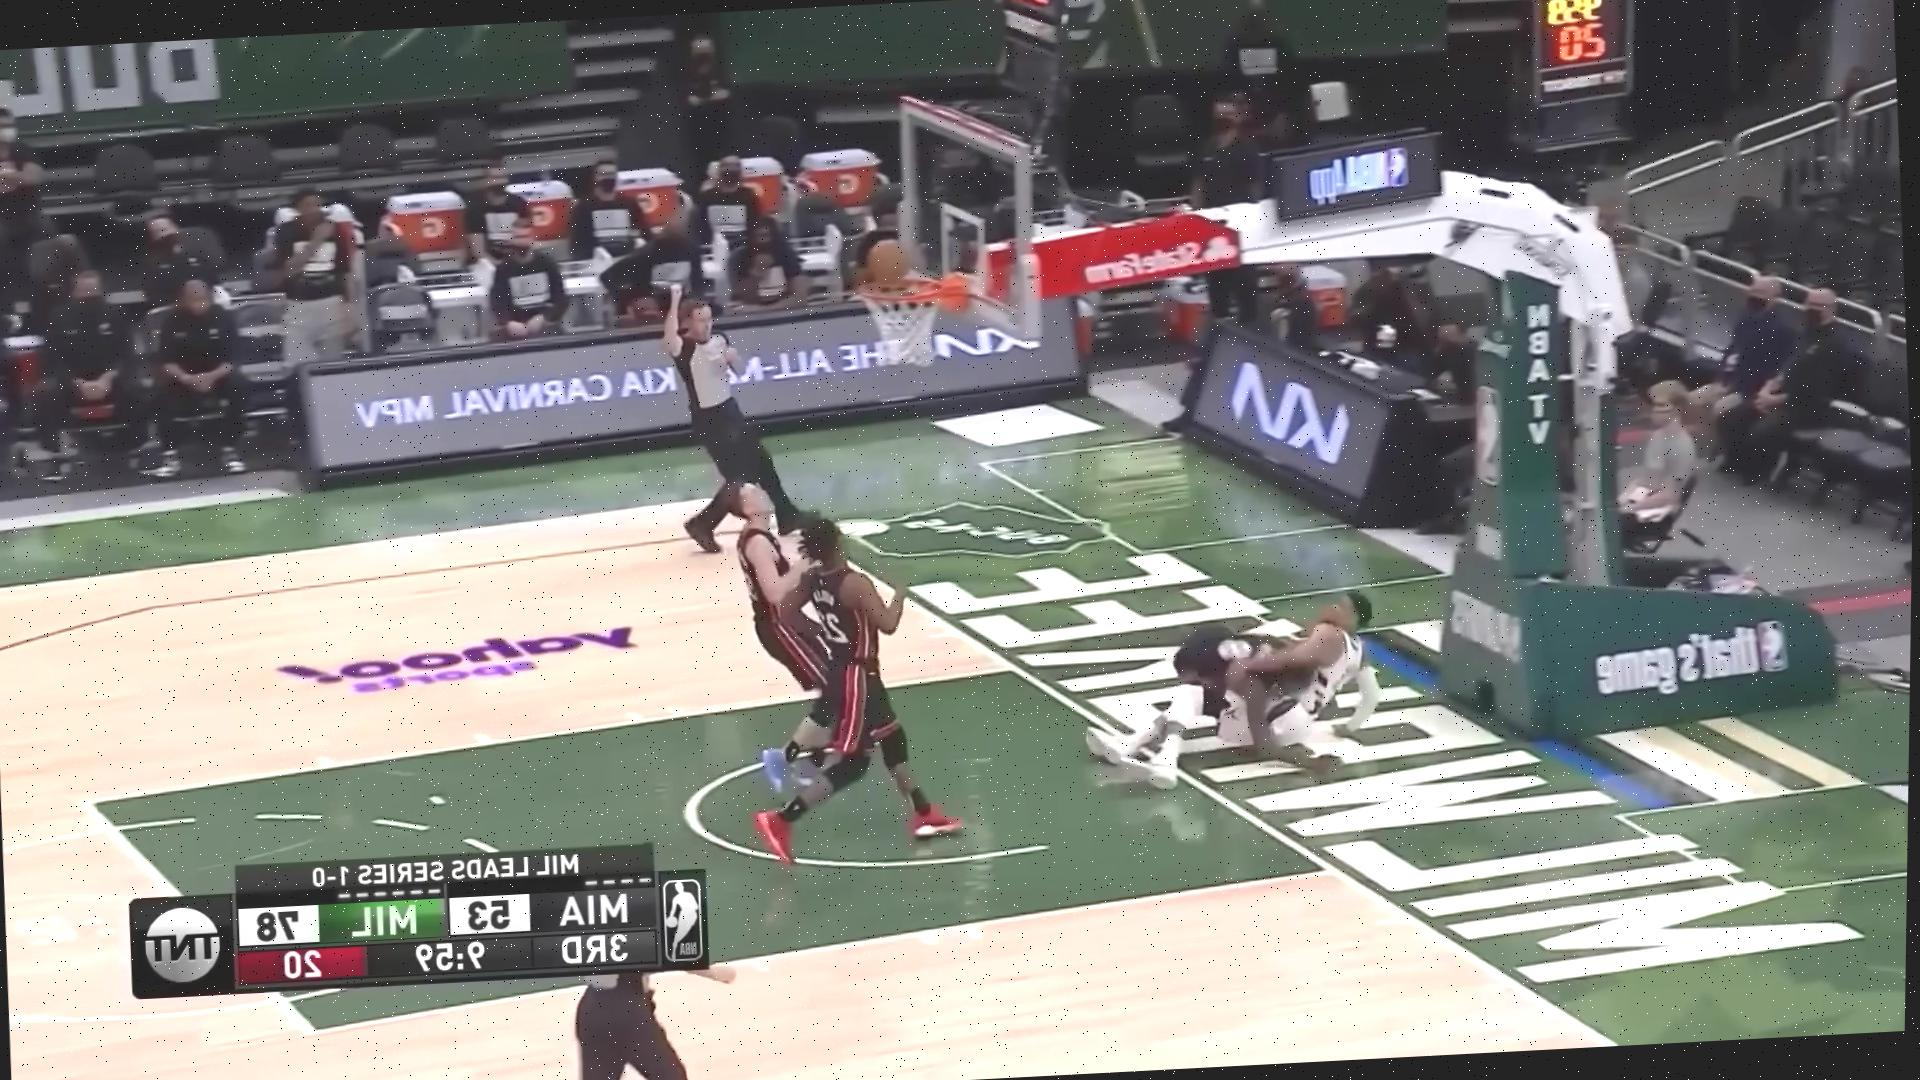foul: (1036, 556, 1407, 843)
